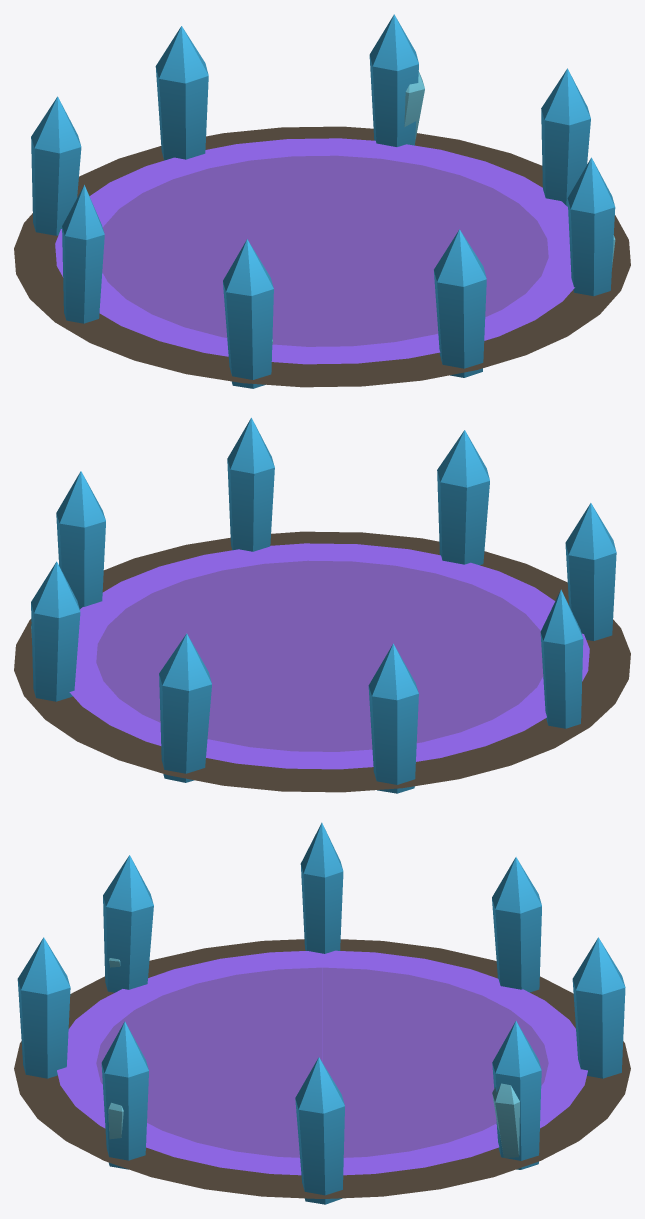
The model's file is warp.fbx.
3 renders of one model, top to bottom at view 1: azimuth 30°, elevation 25°; view 2: azimuth 150°, elevation 25°; view 3: azimuth 270°, elevation 25°, orthographic.
Parts seen in each view (by area): view 1: warp; view 2: warp; view 3: warp.
Part boxes in pixels (x1,y1,x2,y2): warp: (14, 14, 630, 388); warp: (14, 417, 630, 793); warp: (14, 822, 630, 1204).
Size of the model in its own units: 3 by 0.7591 by 3.
